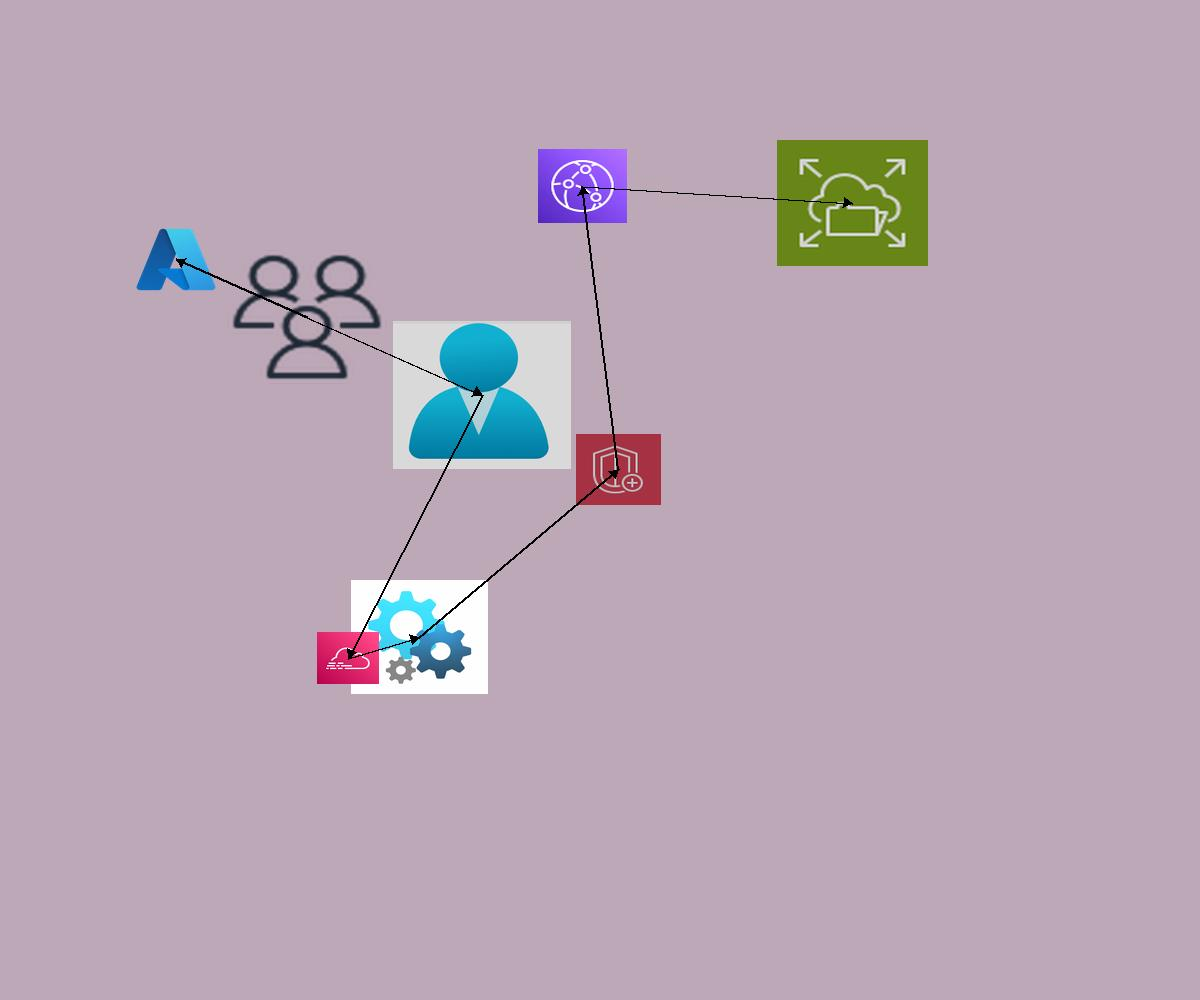AWS-CloudFront: (538, 149, 627, 223)
AWS-CloudTrail: (317, 632, 379, 684)
AWS-EFS: (777, 140, 928, 266)
AWS-Res_Users: (227, 250, 387, 384)
AWS-Shield: (576, 434, 661, 505)
Azure_api: (351, 580, 488, 694)
Azure_services: (133, 224, 219, 295)
Azure_users: (393, 321, 571, 469)
